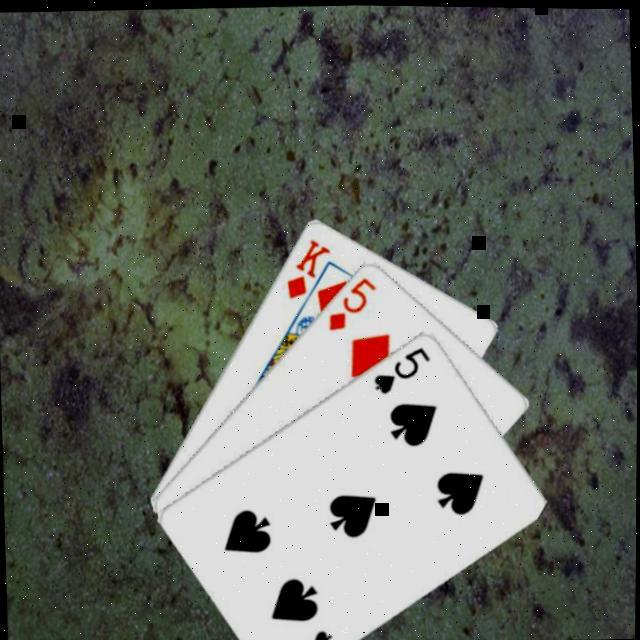5D: (321, 269, 379, 332)
5S: (367, 338, 431, 394), (270, 621, 335, 640)
KD: (280, 231, 333, 300)
